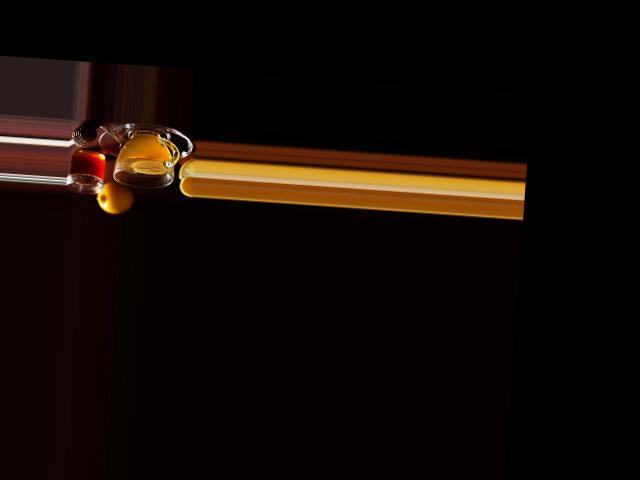lemon: (93, 178, 140, 216)
